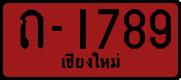letters: (18, 9, 45, 49), (96, 7, 120, 50), (148, 8, 172, 50), (123, 8, 146, 50), (78, 8, 88, 50)
province: (59, 51, 122, 70)
